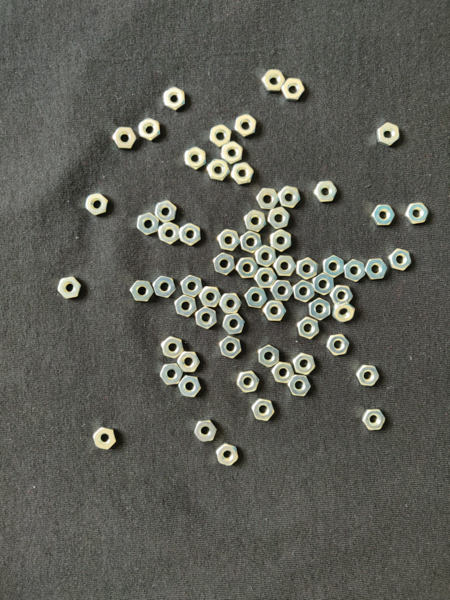nut: (377, 123, 400, 147), (93, 427, 116, 451), (252, 398, 275, 422), (282, 78, 305, 101), (231, 162, 254, 185), (85, 193, 108, 216), (389, 248, 412, 271), (220, 336, 243, 359), (161, 336, 184, 359), (179, 375, 202, 398), (262, 70, 286, 92), (164, 87, 186, 111), (222, 141, 244, 165), (240, 230, 262, 254), (153, 276, 177, 298), (362, 409, 386, 431), (160, 363, 184, 385), (217, 443, 239, 467), (405, 203, 430, 224), (235, 114, 257, 137), (139, 118, 161, 141), (209, 125, 231, 148), (315, 180, 338, 202), (278, 186, 301, 208), (256, 188, 279, 210), (155, 200, 177, 223), (158, 222, 180, 245), (180, 223, 202, 246), (268, 207, 290, 230), (245, 210, 267, 233), (270, 229, 292, 252), (255, 245, 277, 268), (293, 281, 316, 303), (313, 273, 335, 296), (309, 298, 331, 321), (58, 277, 81, 299), (181, 275, 203, 298), (223, 313, 246, 335), (298, 317, 320, 340), (327, 334, 350, 356), (357, 364, 380, 386), (293, 353, 316, 375), (272, 362, 295, 384), (177, 351, 200, 373), (195, 420, 218, 442), (113, 127, 137, 148), (130, 281, 154, 302), (244, 287, 268, 308), (208, 159, 230, 181), (137, 213, 159, 235), (218, 229, 240, 251), (366, 258, 388, 280), (214, 253, 236, 275), (333, 301, 355, 323), (175, 295, 197, 317), (195, 307, 217, 329), (237, 371, 259, 393), (185, 147, 206, 170), (345, 259, 366, 282), (324, 255, 345, 278), (297, 257, 318, 280), (271, 280, 294, 301), (259, 345, 280, 368), (288, 375, 311, 396), (254, 268, 278, 288), (263, 301, 287, 321), (274, 255, 296, 276), (200, 287, 222, 308), (220, 293, 242, 314), (372, 205, 395, 225), (330, 285, 353, 305), (237, 257, 258, 278)
